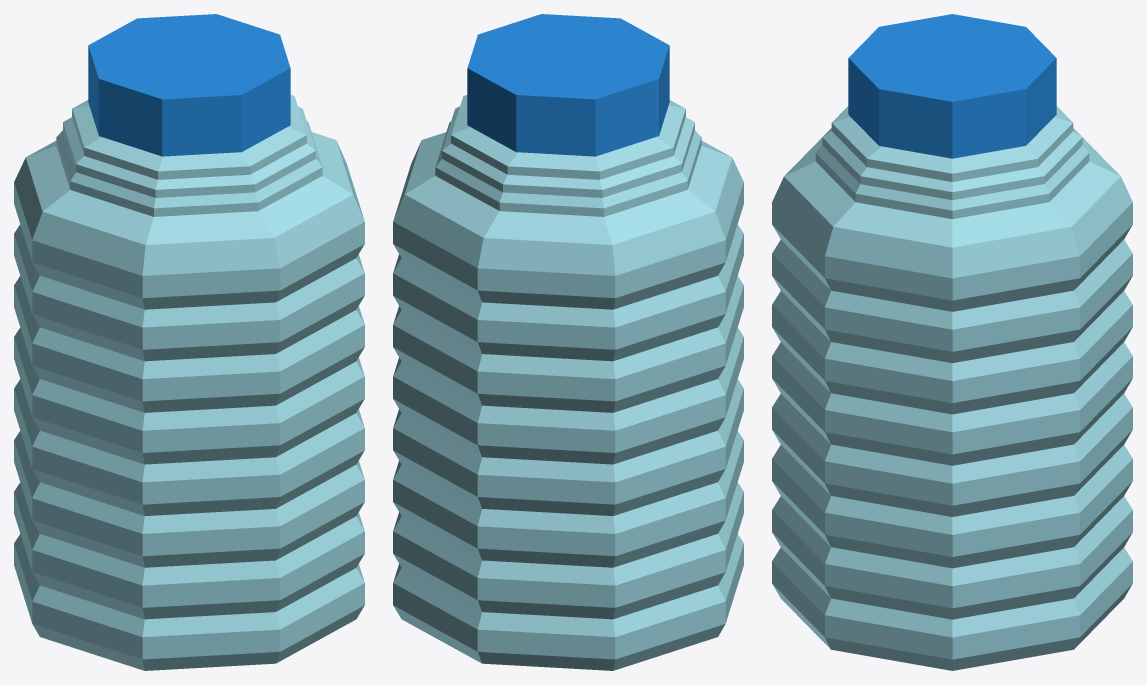
File: bottle.fbx
3 renders of one model, left to right at view 1: azimuth 30°, elevation 25°; view 2: azimuth 150°, elevation 25°; view 3: azimuth 270°, elevation 25°, orthographic.
Visible parts, largest first — view 1: Cylinder; view 2: Cylinder; view 3: Cylinder.
Part boxes in pixels (x1,y1,x2,y2): Cylinder: [14, 14, 364, 670]; Cylinder: [393, 14, 743, 670]; Cylinder: [772, 14, 1132, 670].
Size of the model in its own units: 210 by 353 by 210.
